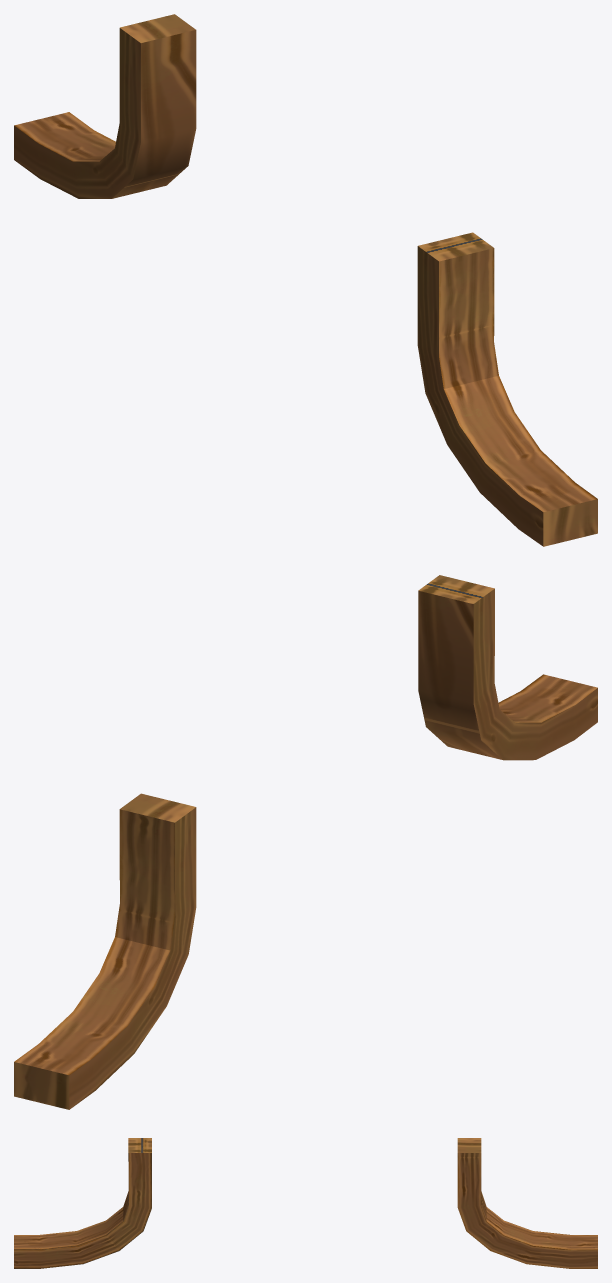
3 renders of one model, top to bottom at view 1: azimuth 30°, elevation 25°; view 2: azimuth 150°, elevation 25°; view 3: azimuth 270°, elevation 25°, orthographic. The views are drawn at different scales.
Parts seen in each view (by area): view 1: Cube.1194; view 2: Cube.1194; view 3: Cube.1194.
Boxes of the visible parts, bbox=[...] form: Cube.1194: bbox=[14, 14, 597, 546]; Cube.1194: bbox=[14, 575, 597, 1109]; Cube.1194: bbox=[14, 1138, 597, 1268].
Bounding box in the file's own units: 43.8 × 159 × 726.
Materials: 1 (1 with a texture image).
